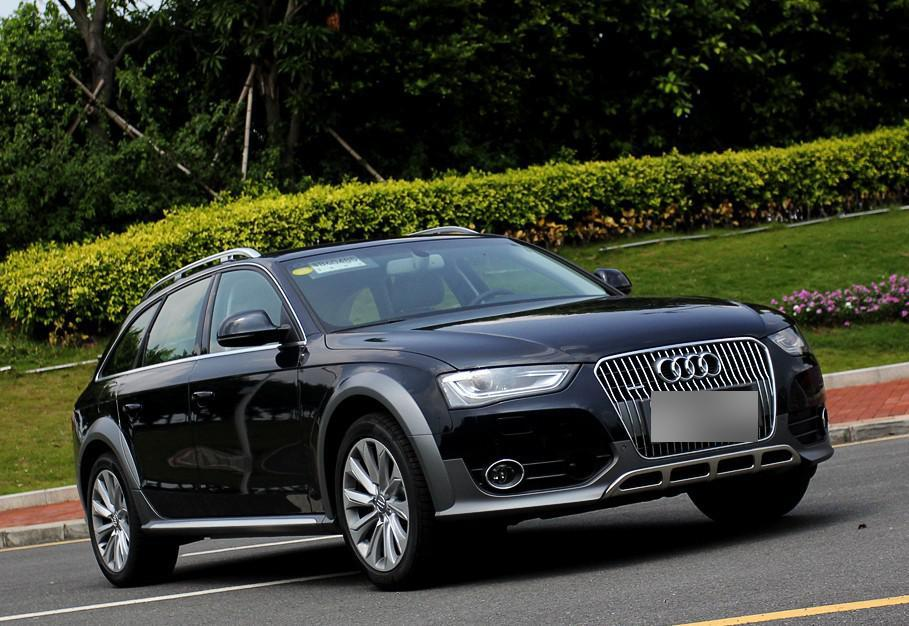Wagon: (70, 223, 836, 590)
